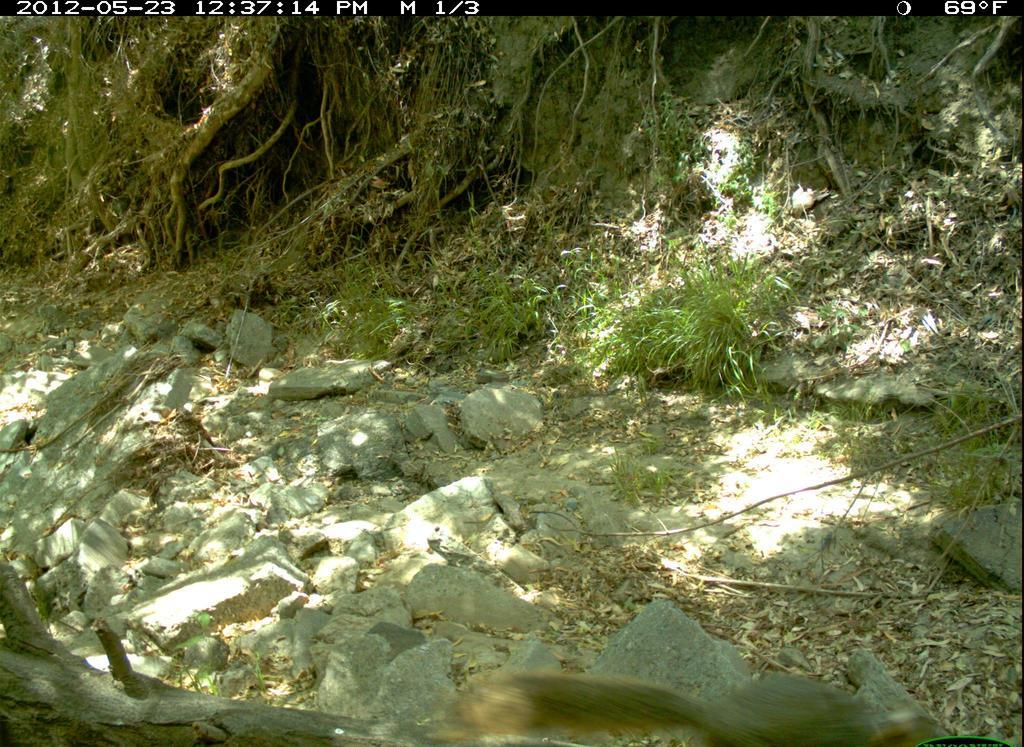squirrel: (456, 643, 949, 747)
